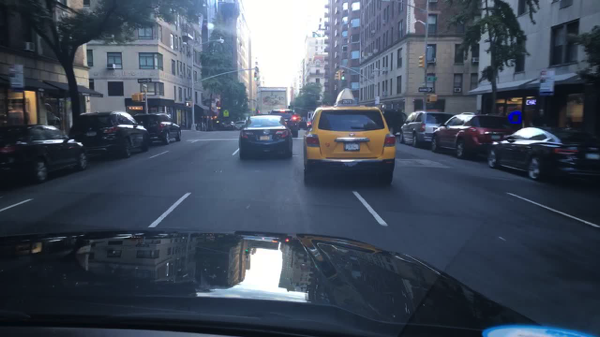bus: (306, 112, 313, 127)
car: (302, 88, 396, 187), (486, 127, 599, 182), (0, 124, 88, 185), (429, 112, 515, 160), (70, 111, 151, 160), (239, 114, 294, 161), (399, 111, 454, 147), (134, 111, 181, 145), (271, 110, 299, 138), (381, 109, 408, 134), (220, 121, 235, 130), (234, 121, 245, 129), (298, 121, 306, 129)
traffic light: (132, 93, 143, 101), (418, 56, 424, 67), (429, 95, 437, 102), (340, 70, 345, 81), (334, 72, 340, 81), (184, 101, 189, 106)
traffic sign: (8, 65, 25, 88), (540, 69, 553, 96), (418, 87, 433, 92), (138, 78, 151, 83), (223, 110, 230, 117), (426, 77, 437, 81), (375, 96, 379, 105)
truck: (256, 88, 287, 115)
